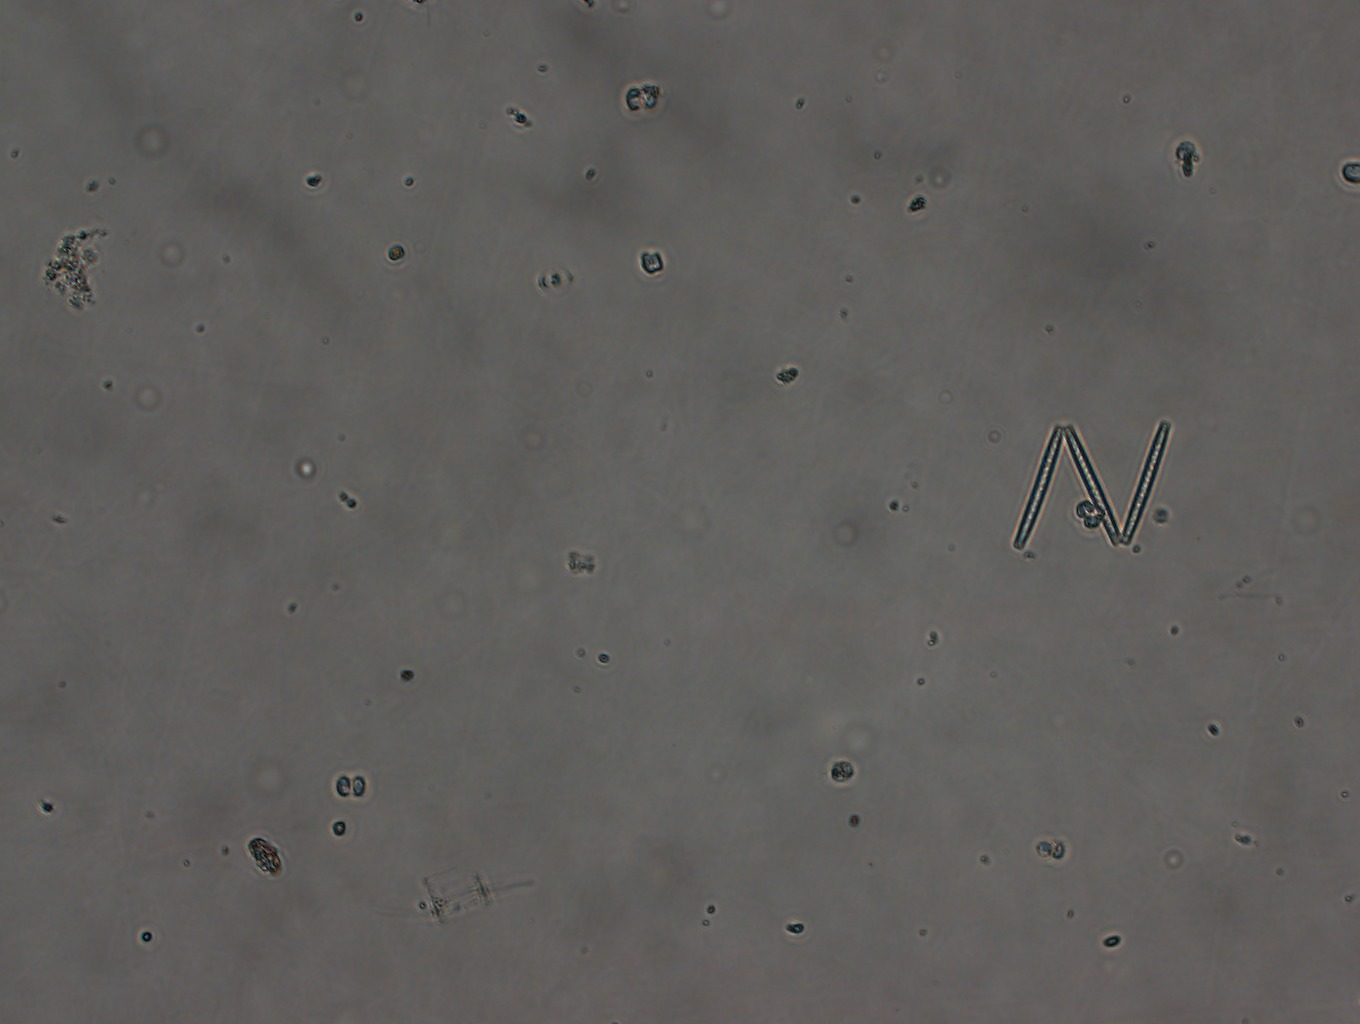thalassionema nitzschioides: (1011, 417, 1173, 549)
